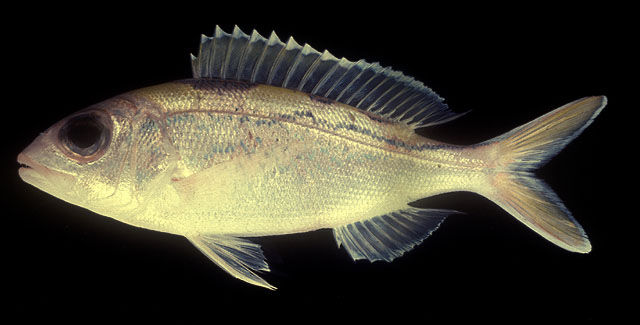fish: (16, 23, 609, 291)
